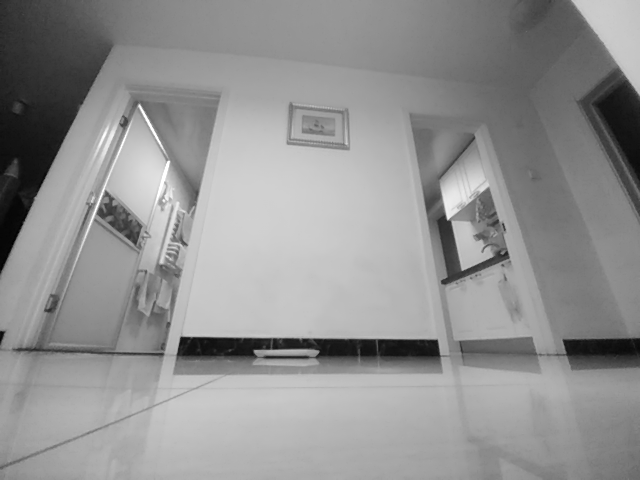scale: (253, 347, 322, 360)
